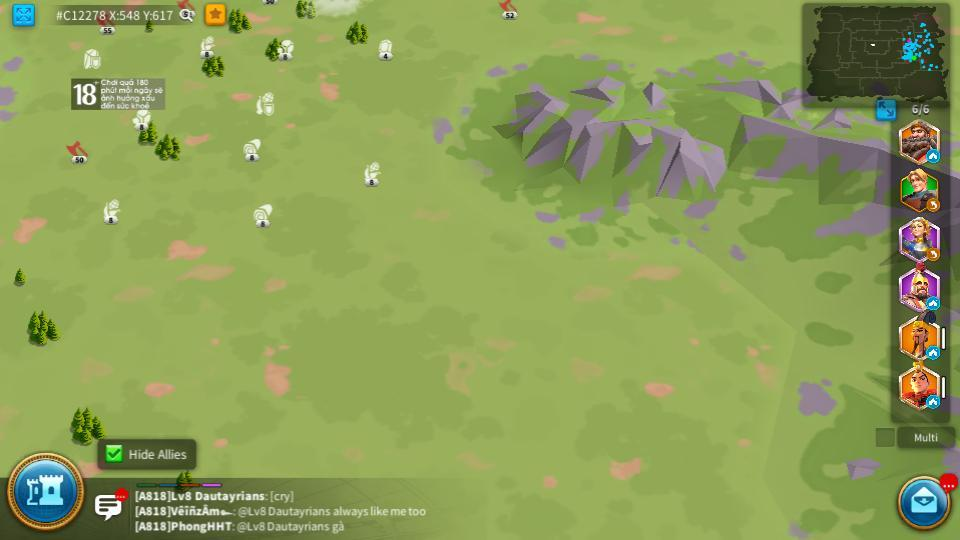gem-z-out: (375, 40, 394, 59)
march_idle: (926, 396, 940, 407), (926, 297, 940, 307), (927, 150, 939, 161), (927, 347, 940, 357)
march_returning: (926, 248, 941, 260), (926, 199, 941, 211)
